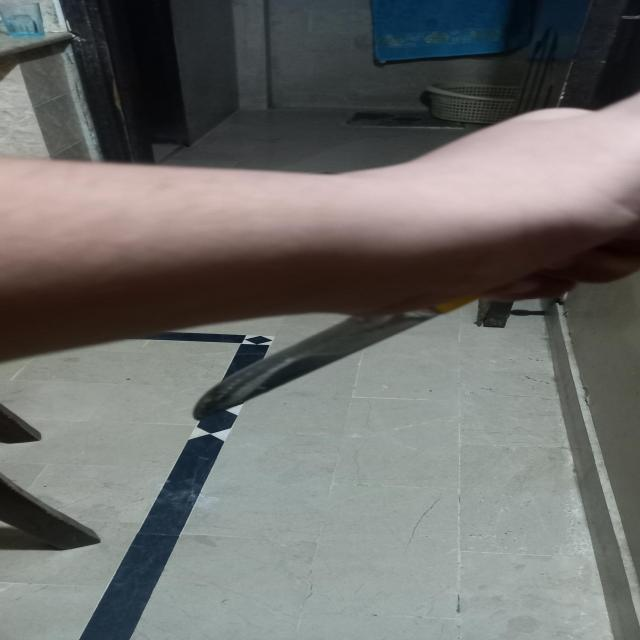Knife: (192, 258, 500, 414)
Person: (0, 90, 640, 362)
